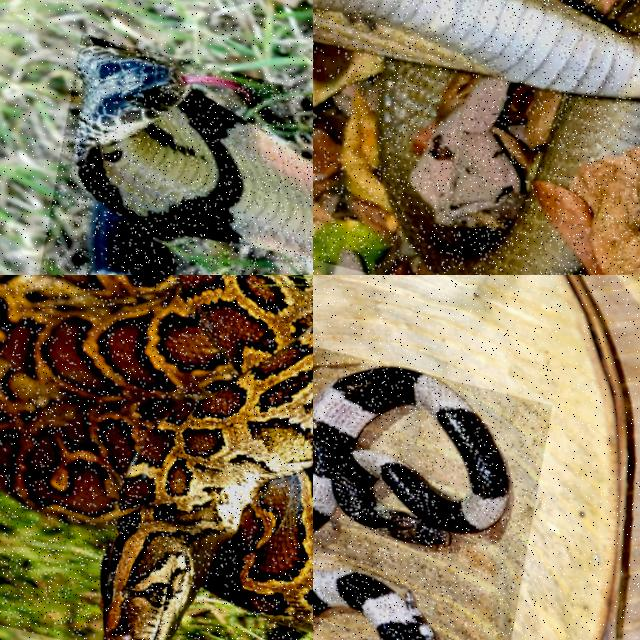Bungarus candidus: (313, 366, 507, 546)
Naja siamensis: (313, 0, 639, 274), (75, 36, 312, 274)
Python bivittatus: (0, 275, 312, 639)
